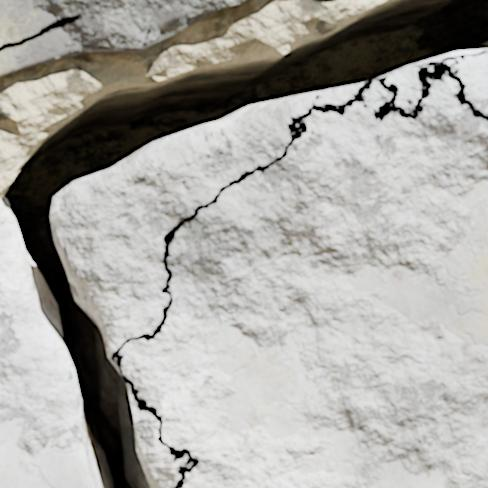brick: (120, 77, 487, 487), (0, 202, 96, 487), (0, 0, 243, 76), (132, 399, 186, 487), (453, 55, 487, 113)
crack: (0, 0, 487, 487), (0, 11, 85, 53)
